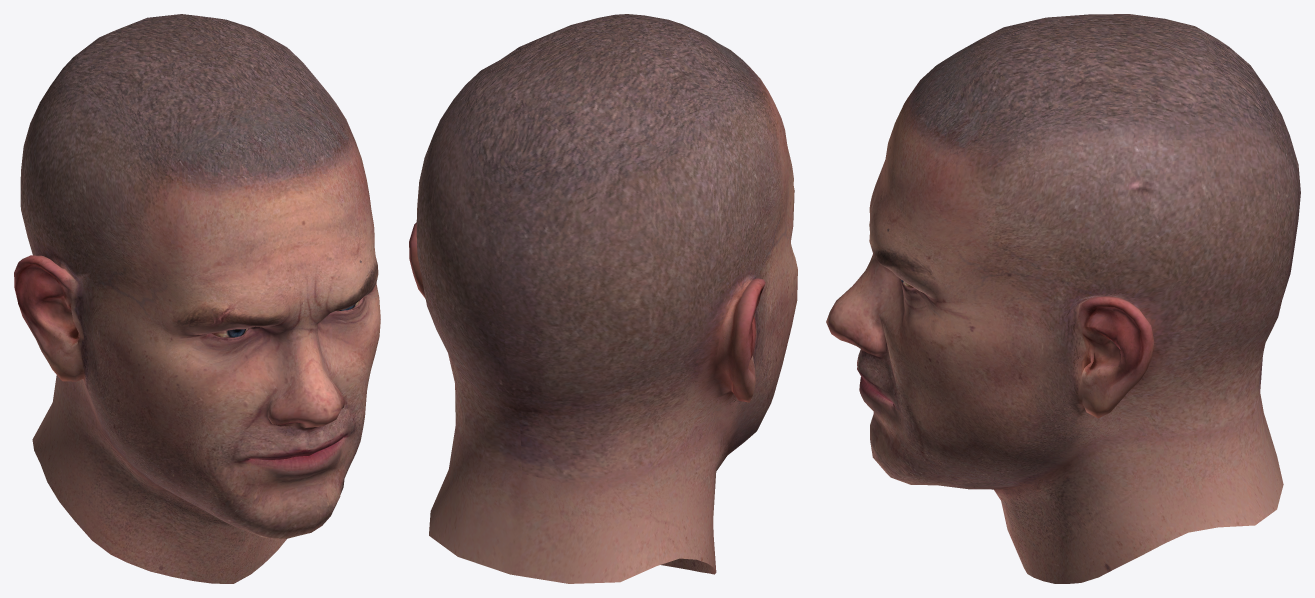
File: proyecto de sg.glb
3 views of the same model, side by side, from view 1: azimuth 30°, elevation 25°; view 2: azimuth 150°, elevation 25°; view 3: azimuth 270°, elevation 25° (orthographic). The views are drawn at different scales.
Visible parts, largest first — view 1: USEC_head_1_lod0_base; view 2: USEC_head_1_lod0_base; view 3: USEC_head_1_lod0_base.
Part boxes in pixels (bbox=[...]): USEC_head_1_lod0_base: bbox=[14, 14, 380, 583]; USEC_head_1_lod0_base: bbox=[409, 14, 797, 583]; USEC_head_1_lod0_base: bbox=[826, 14, 1300, 583].
Size of the model in its own units: 0.0544 by 0.0837 by 0.0668.
Materials: 1 (1 with a texture image).
